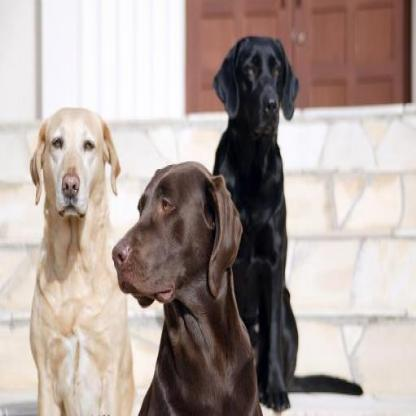Labarador Retriever: (208, 38, 368, 415), (113, 161, 261, 416), (21, 103, 139, 416)
